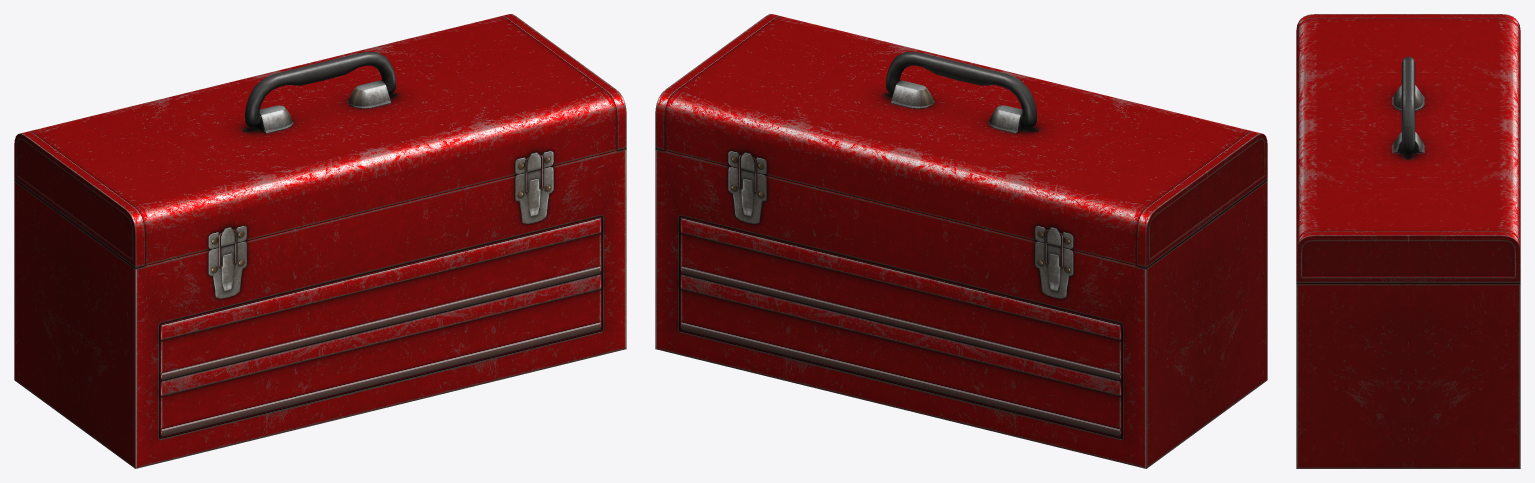
Rendered from Toolbox.dae.
3 views of the same model, side by side, from view 1: azimuth 30°, elevation 25°; view 2: azimuth 150°, elevation 25°; view 3: azimuth 270°, elevation 25° (orthographic). The views are drawn at different scales.
Visible parts, largest first — view 1: Toolbox; view 2: Toolbox; view 3: Toolbox.
Part boxes in pixels (x1,y1,x2,y2): Toolbox: [14, 14, 626, 468]; Toolbox: [655, 14, 1267, 468]; Toolbox: [1296, 14, 1520, 468].
Size of the model in its own units: 51 by 21.8 by 29.91.
